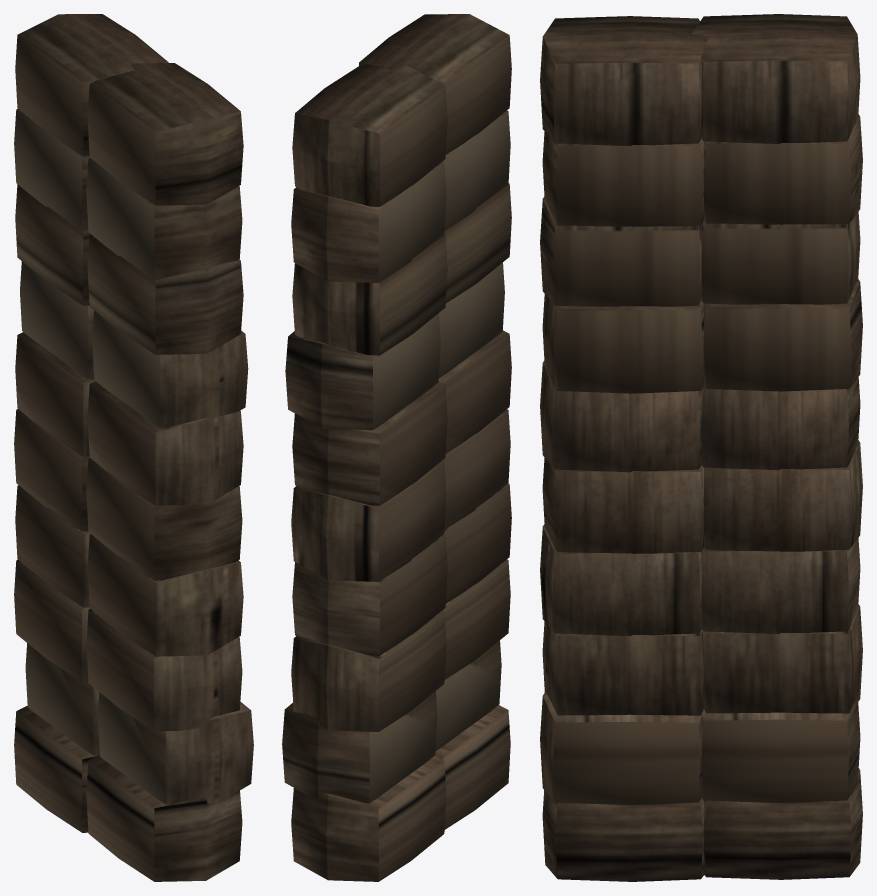
Rendered from PilaresDos.fbx.
The picture shows the model from 3 angles, left to right: view 1: azimuth 30°, elevation 25°; view 2: azimuth 150°, elevation 25°; view 3: azimuth 270°, elevation 25°; orthographic projection. The views are drawn at different scales.
Visible parts, largest first — view 1: Object008; view 2: Object008; view 3: Object008.
Boxes of the visible parts, left/top/right/bottom form: Object008: left=14, top=14, right=253, bottom=881; Object008: left=282, top=14, right=511, bottom=881; Object008: left=540, top=14, right=862, bottom=881.
Size of the model in its own units: 36.73 by 247 by 86.75.
